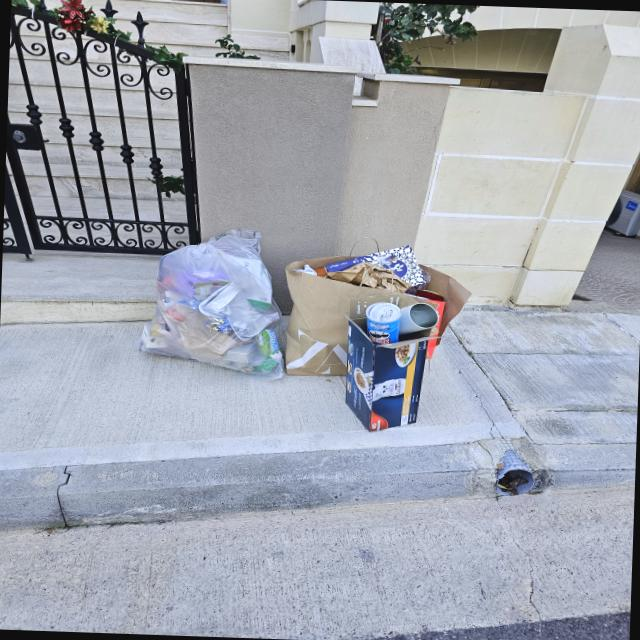grey_bag: (136, 228, 288, 380)
other_waste: (284, 235, 470, 436)
